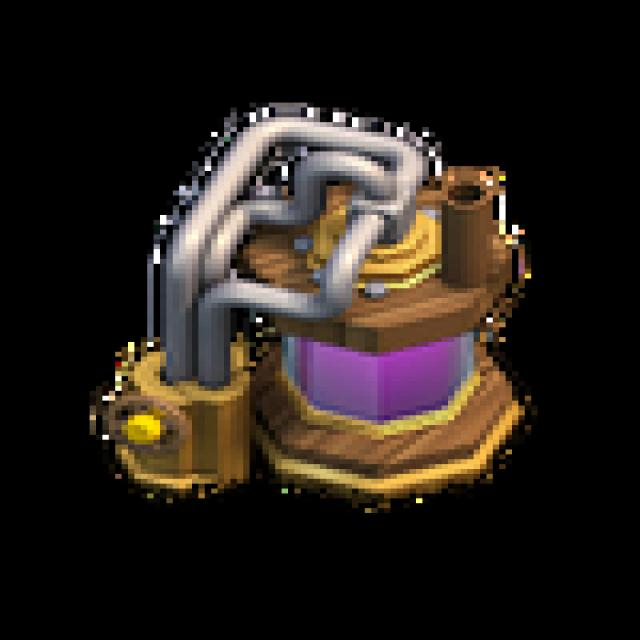elixir_collector: (76, 96, 556, 554)
